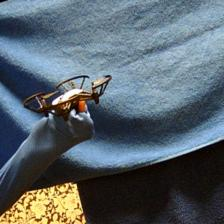drone: (21, 72, 114, 113)
